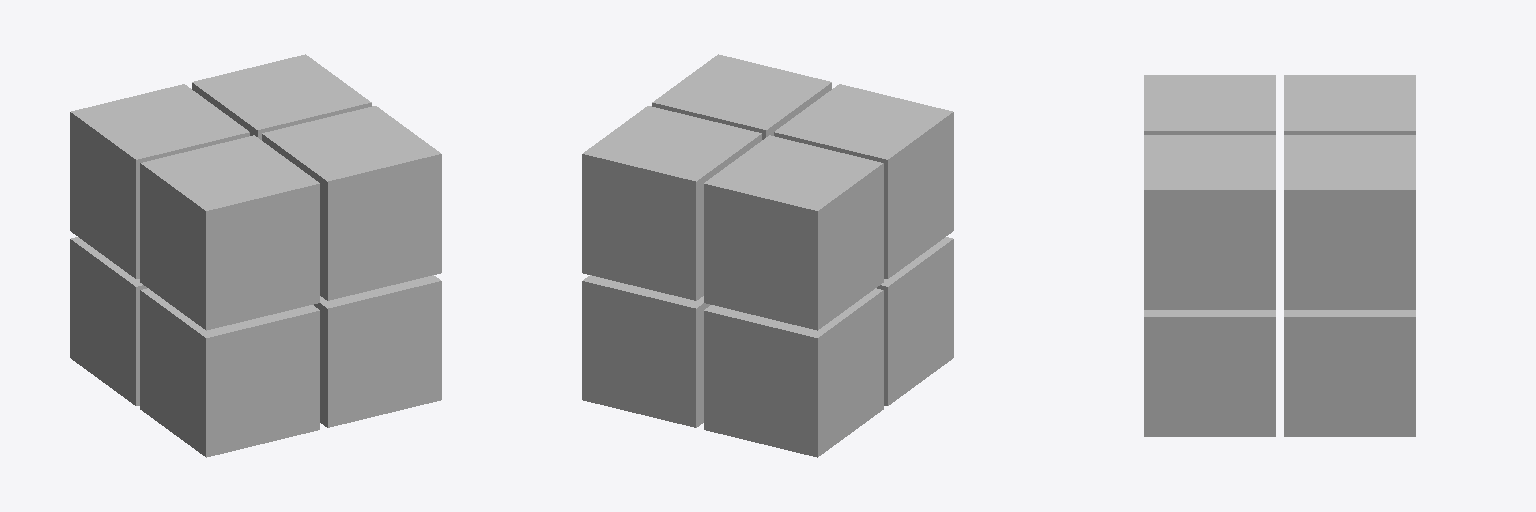
The model's file is TileAuraInfusionMatrix.obj.
3 views of the same model, side by side, from view 1: azimuth 30°, elevation 25°; view 2: azimuth 150°, elevation 25°; view 3: azimuth 270°, elevation 25° (orthographic).
Parts seen in each view (by area): view 1: ___________3, ___________7, ___________4, ___________2, ___________8, ___________6, ___________1; view 2: ___________2, ___________6, ___________1, ___________3, ___________5, ___________7, ___________4; view 3: ___________1, ___________4, ___________5, ___________8, ___________2, ___________3.
Part boxes in pixels (x1,y1,x2,y2): ___________3: (140, 135, 319, 330); ___________7: (140, 288, 319, 457); ___________4: (262, 106, 441, 300); ___________2: (70, 84, 249, 278); ___________8: (314, 275, 441, 427); ___________6: (70, 237, 146, 405); ___________1: (192, 54, 371, 139); ___________2: (704, 135, 883, 330); ___________6: (704, 288, 883, 457); ___________1: (582, 106, 761, 300); ___________3: (774, 84, 953, 278); ___________5: (582, 275, 709, 427); ___________7: (877, 237, 953, 405); ___________4: (652, 54, 831, 139); ___________1: (1284, 135, 1415, 309); ___________4: (1144, 135, 1275, 309); ___________5: (1284, 310, 1415, 436); ___________8: (1144, 310, 1275, 436); ___________2: (1284, 75, 1415, 134); ___________3: (1144, 75, 1275, 134).
Size of the model in its own units: 0.97 by 0.97 by 0.97.